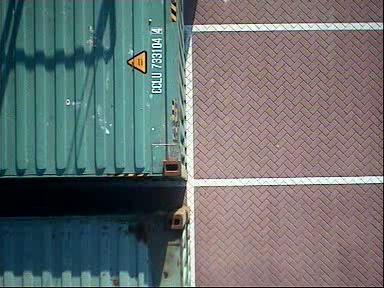groundmarker_2: (1, 193, 69, 268)
